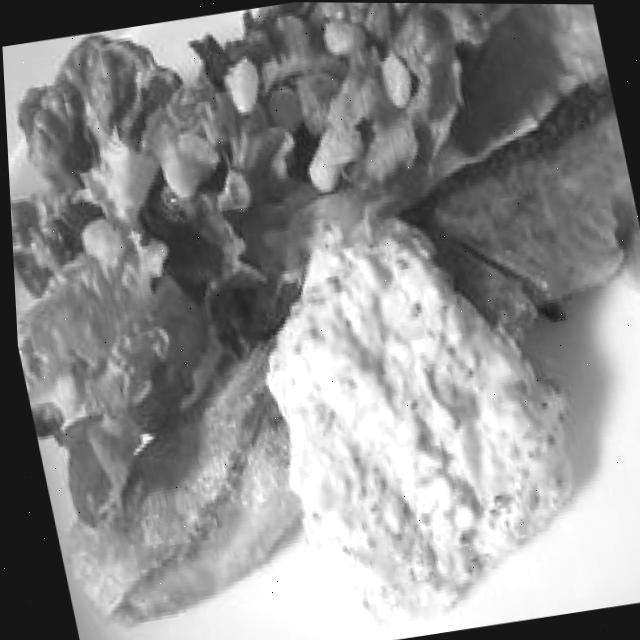熟制海鲜: (3, 65, 640, 637)
